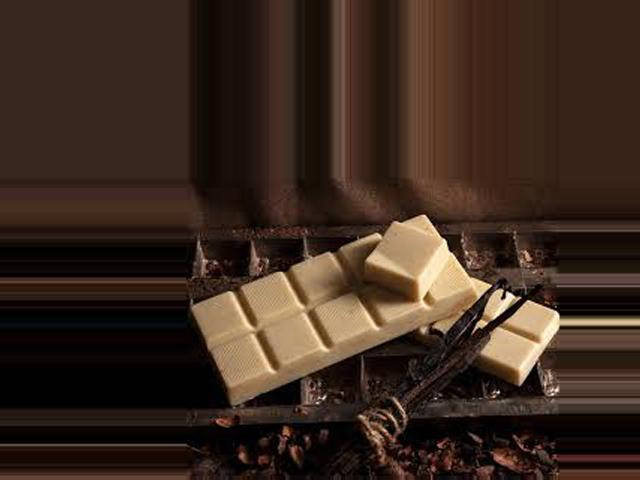chocolate: (192, 216, 483, 398)
